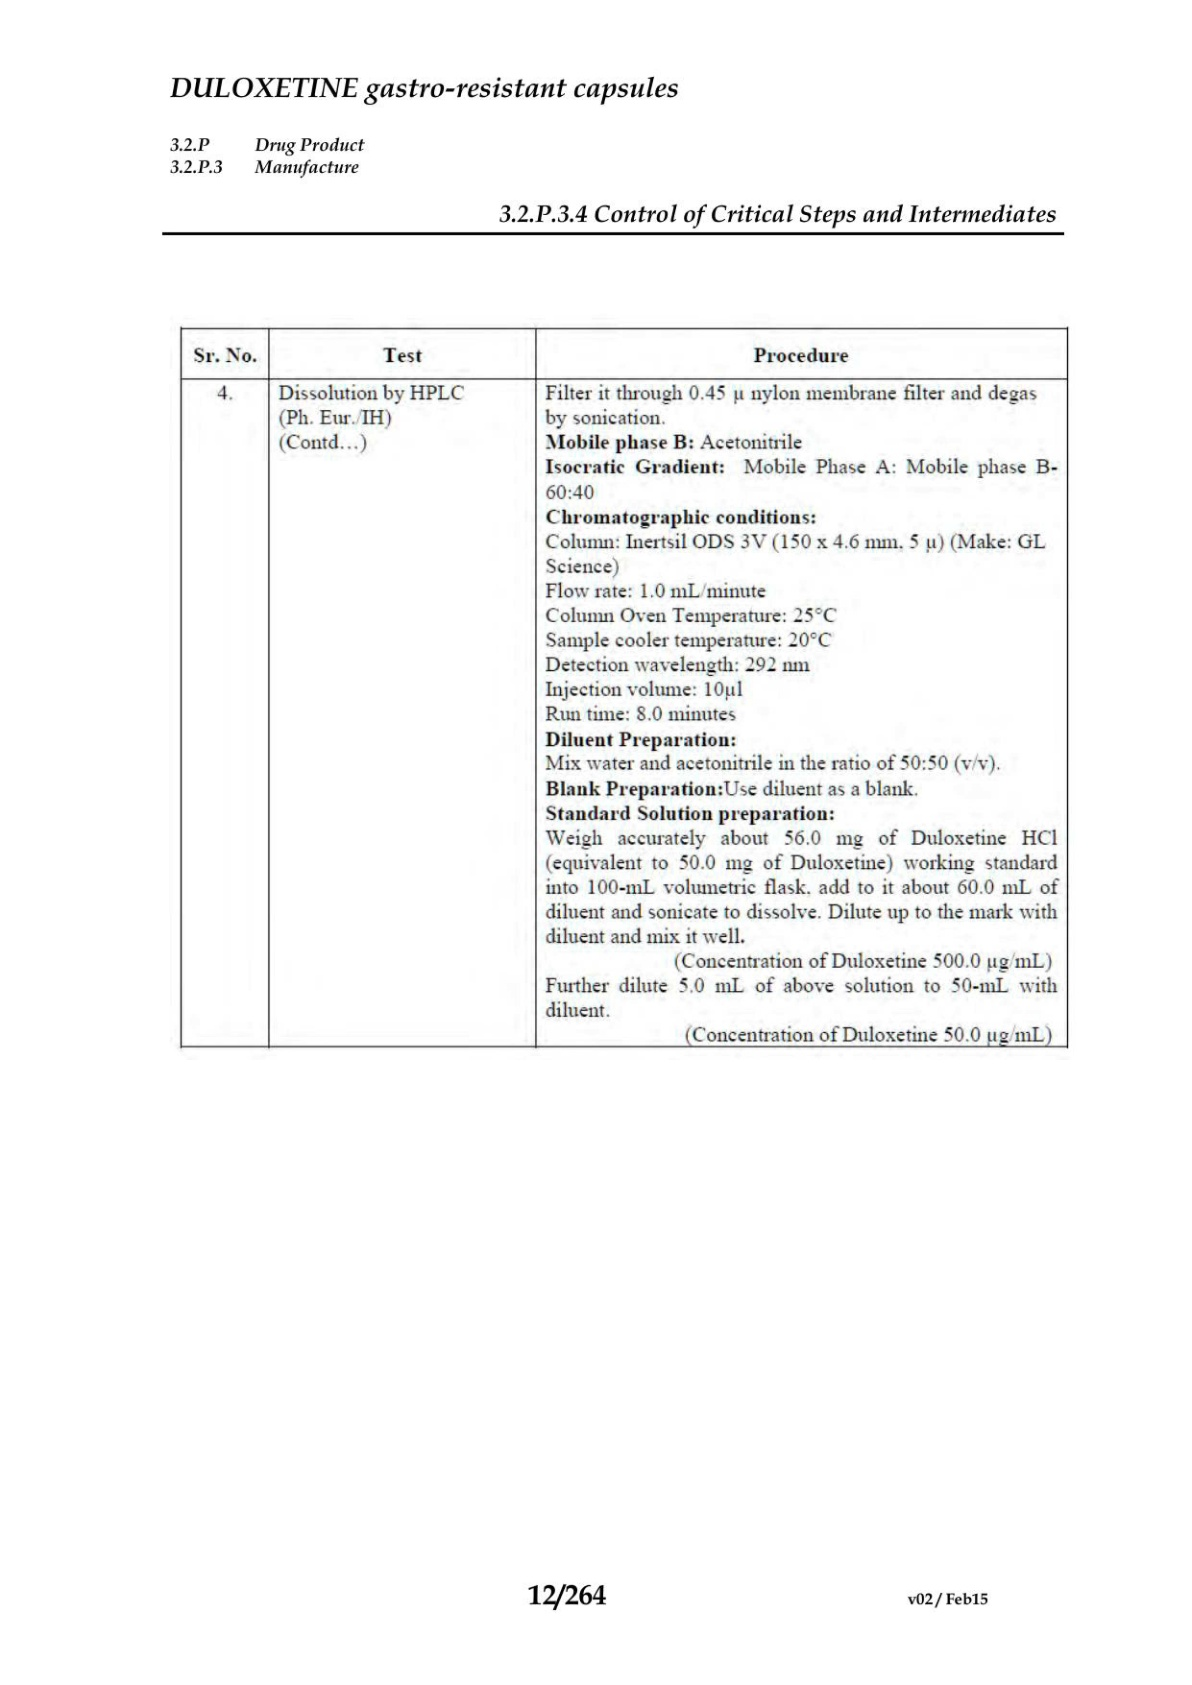full_lined: (181, 326, 1069, 1048)
